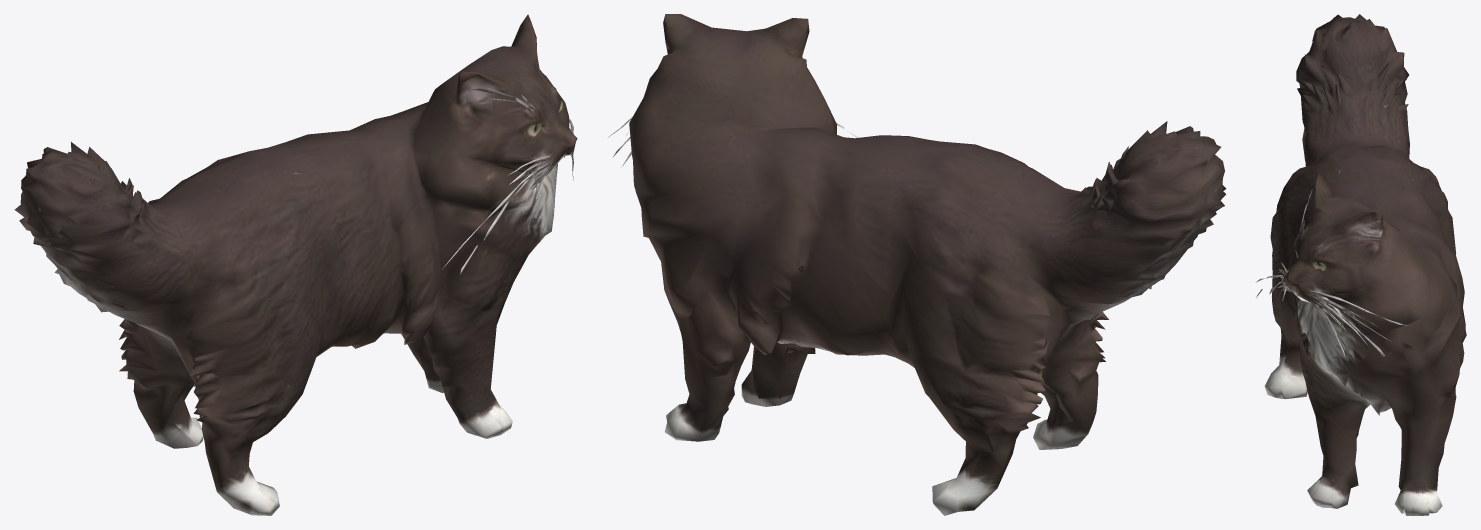
File: WHISK100-lo.glb
The picture shows the model from 3 angles, left to right: view 1: azimuth 30°, elevation 25°; view 2: azimuth 150°, elevation 25°; view 3: azimuth 270°, elevation 25°; orthographic projection. The views are drawn at different scales.
Visible parts, largest first — view 1: tripo_node_71e449d1-74b6-4351-8f0a-4b4731874248; view 2: tripo_node_71e449d1-74b6-4351-8f0a-4b4731874248; view 3: tripo_node_71e449d1-74b6-4351-8f0a-4b4731874248.
Boxes of the visible parts, left/top/right/bottom form: tripo_node_71e449d1-74b6-4351-8f0a-4b4731874248: left=14, top=14, right=577, bottom=515; tripo_node_71e449d1-74b6-4351-8f0a-4b4731874248: left=608, top=14, right=1226, bottom=515; tripo_node_71e449d1-74b6-4351-8f0a-4b4731874248: left=1256, top=14, right=1466, bottom=515.
Bounding box in the file's own units: 1.55 × 1 × 0.5946.
1 material, 1 textured.
